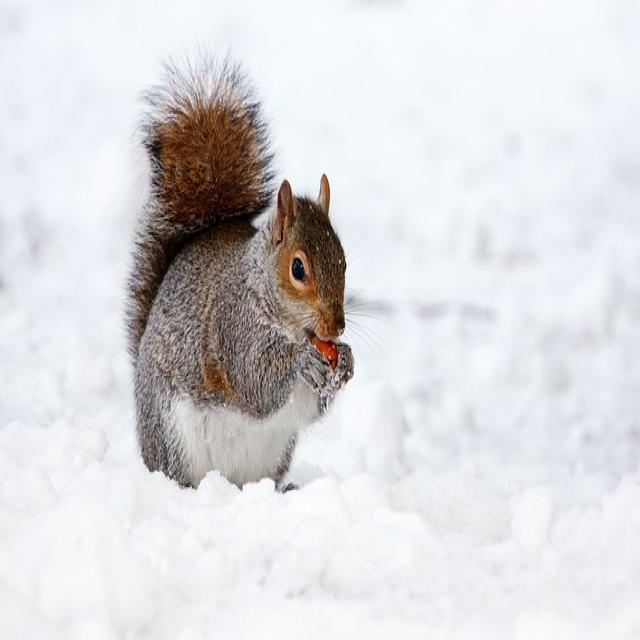Herbivorous: (122, 79, 355, 493)
